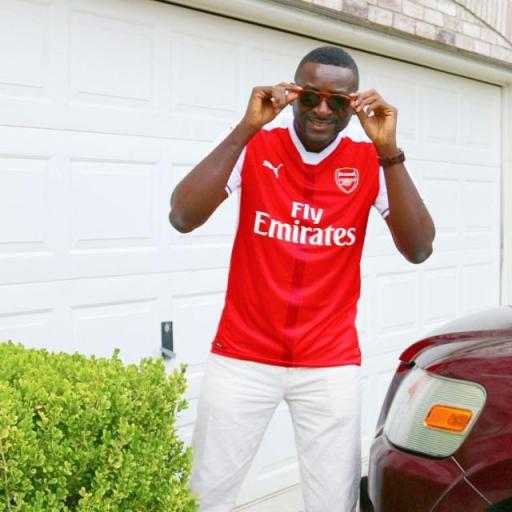Emirates: (252, 200, 358, 248)
